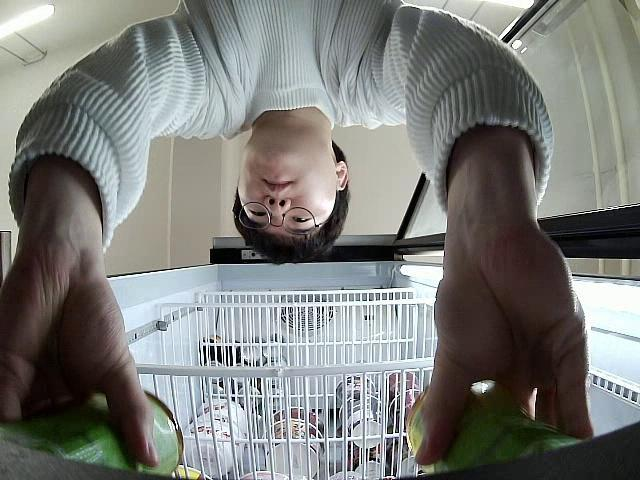19_17cha: (0, 387, 183, 480), (404, 386, 592, 476)
